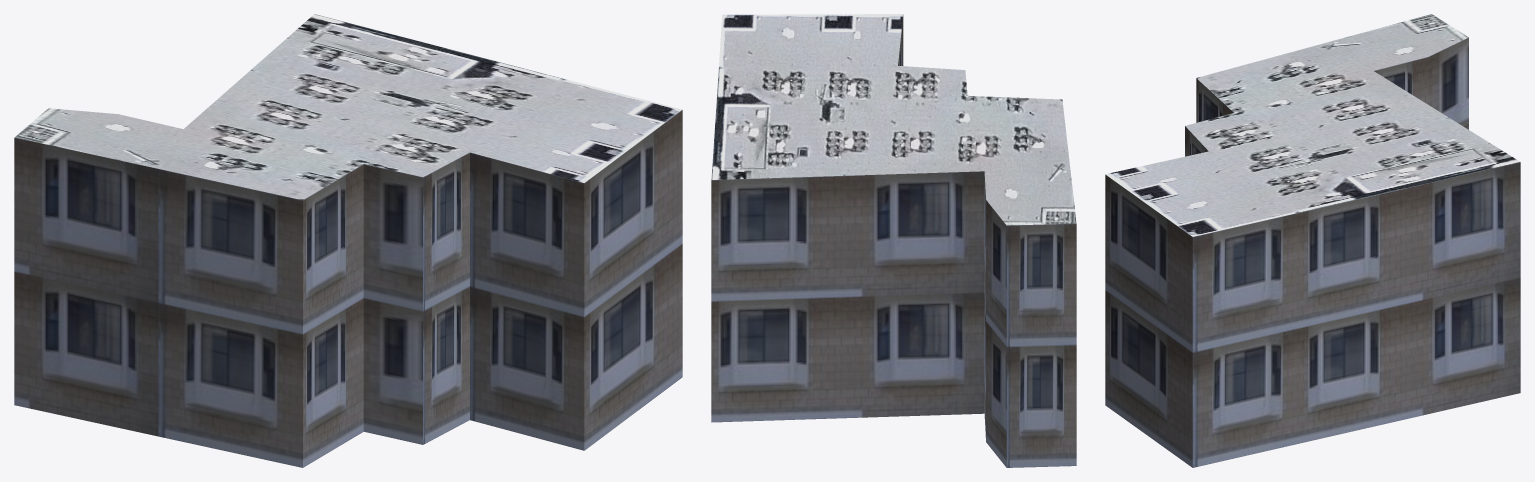
File: ResTex__47.fbx
3 renders of one model, left to right at view 1: azimuth 30°, elevation 25°; view 2: azimuth 150°, elevation 25°; view 3: azimuth 270°, elevation 25°, orthographic. The views are drawn at different scales.
Visible parts, largest first — view 1: CityEngineMaterial_3_m, CityEngineMaterial_4_m; view 2: CityEngineMaterial_3_m, CityEngineMaterial_4_m; view 3: CityEngineMaterial_3_m, CityEngineMaterial_4_m.
Boxes of the visible parts, left/top/right/bottom form: CityEngineMaterial_3_m: left=14, top=110, right=682, bottom=467; CityEngineMaterial_4_m: left=15, top=14, right=681, bottom=200; CityEngineMaterial_3_m: left=711, top=15, right=1076, bottom=467; CityEngineMaterial_4_m: left=711, top=14, right=1076, bottom=225; CityEngineMaterial_3_m: left=1105, top=37, right=1520, bottom=467; CityEngineMaterial_4_m: left=1105, top=14, right=1519, bottom=236.
Bounding box in the file's own units: 12.42 × 6 × 9.79.
2 materials, 2 textured.
